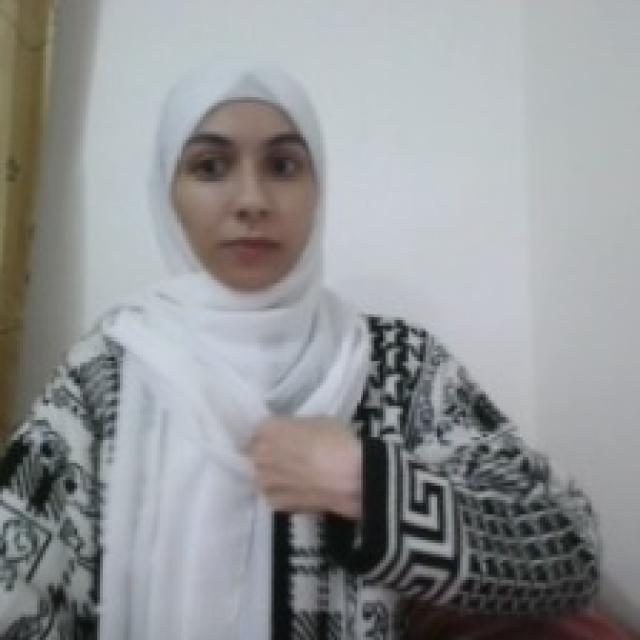me: (244, 410, 368, 524)
